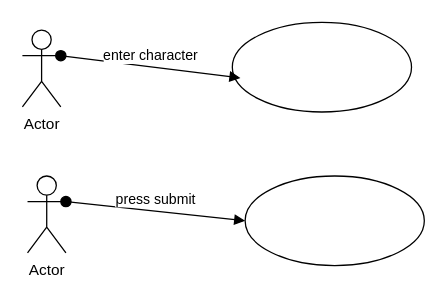
The diagram is 447 pixels wide and 302 high, and some of its shapes have lost their labels. Here are the shapes that lost their labels. From the top down, the box of each, then its label:
(231, 21, 412, 112): define search term
(244, 175, 424, 266): fetch blog entries
